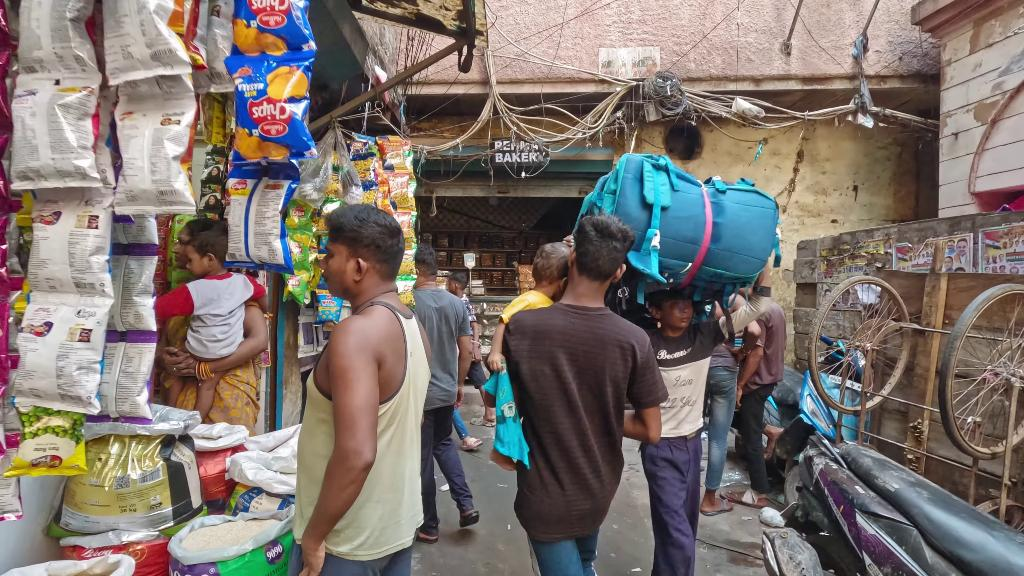garbage: (16, 294, 107, 422), (7, 74, 105, 192), (112, 99, 200, 218), (225, 58, 320, 162), (225, 168, 296, 274)
